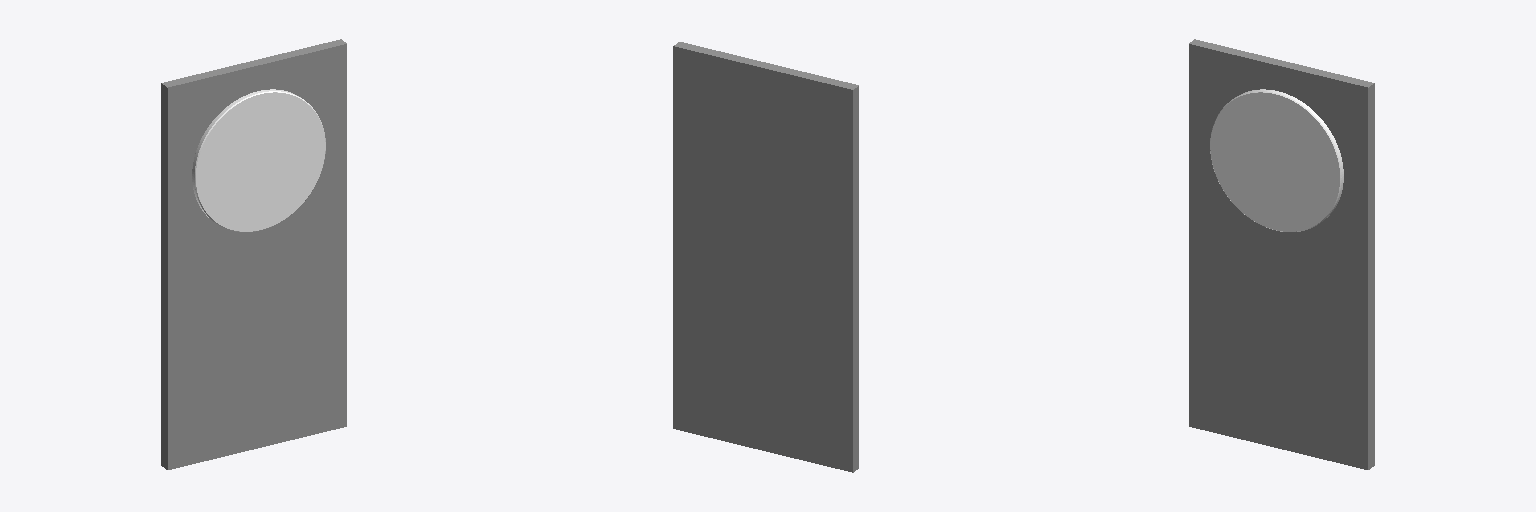
Rendered from tiro_blanco.obj.
3 views of the same model, side by side, from view 1: azimuth 30°, elevation 25°; view 2: azimuth 150°, elevation 25°; view 3: azimuth 330°, elevation 25° (orthographic).
Visible parts, largest first — view 1: Cube, 11721_darboard_model; view 2: Cube; view 3: Cube, 11721_darboard_model.
Part boxes in pixels (left/top/right/bottom): Cube: left=161, top=39, right=346, bottom=469; 11721_darboard_model: left=192, top=89, right=325, bottom=231; Cube: left=673, top=42, right=858, bottom=472; Cube: left=1189, top=39, right=1374, bottom=469; 11721_darboard_model: left=1210, top=89, right=1343, bottom=231.
Size of the model in its own units: 21.2 by 43.14 by 1.94.